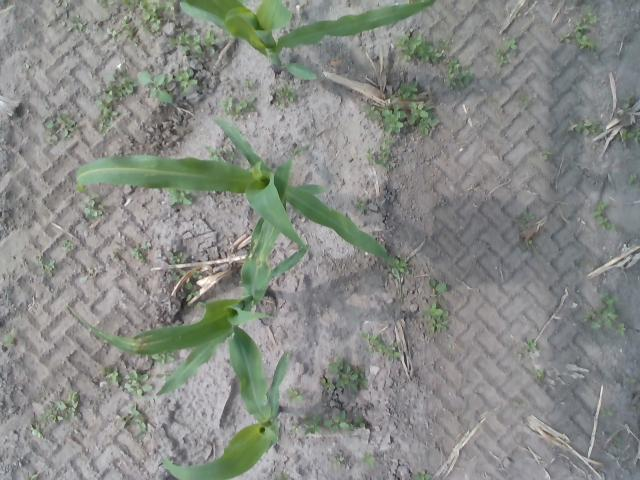Maize: (68, 128, 312, 402), (74, 118, 402, 271), (180, 0, 436, 82), (160, 324, 289, 480)
Weeds: (396, 30, 476, 90), (93, 61, 138, 136), (30, 385, 80, 437), (285, 410, 368, 436), (319, 358, 373, 396), (122, 0, 178, 36), (558, 6, 599, 52), (584, 292, 626, 334), (362, 102, 408, 135), (170, 28, 221, 56), (137, 70, 174, 107), (118, 400, 150, 442), (47, 0, 89, 32), (362, 331, 404, 361), (102, 15, 140, 48), (42, 110, 76, 142), (566, 118, 610, 142), (410, 100, 440, 135), (220, 95, 260, 120), (423, 300, 449, 334), (124, 368, 154, 395), (97, 363, 124, 391), (592, 200, 616, 230), (175, 68, 201, 95), (80, 192, 106, 219), (496, 38, 518, 66), (364, 146, 391, 168), (275, 84, 298, 108), (167, 188, 197, 206), (396, 78, 419, 101), (391, 253, 411, 279), (38, 254, 58, 278), (615, 126, 640, 144), (128, 245, 150, 264), (428, 278, 450, 294), (286, 386, 305, 404), (152, 352, 176, 366), (2, 328, 18, 348), (168, 249, 188, 264), (510, 211, 535, 223), (80, 268, 96, 286), (620, 92, 636, 110), (185, 282, 201, 300), (352, 196, 368, 214), (206, 144, 222, 161), (362, 451, 377, 469), (61, 238, 80, 252), (167, 268, 189, 280), (330, 451, 344, 469), (412, 468, 432, 480), (110, 250, 125, 265), (95, 0, 116, 10), (524, 339, 538, 354), (194, 300, 207, 316), (516, 92, 528, 108), (271, 472, 294, 480), (242, 78, 255, 92), (155, 368, 170, 380), (23, 471, 39, 480), (532, 368, 544, 380), (626, 172, 638, 184), (539, 148, 551, 160), (193, 268, 205, 280), (382, 136, 396, 146), (226, 149, 238, 160), (624, 375, 637, 385), (600, 408, 612, 418), (630, 406, 640, 416), (613, 434, 620, 448), (525, 240, 533, 249), (515, 12, 523, 21)
